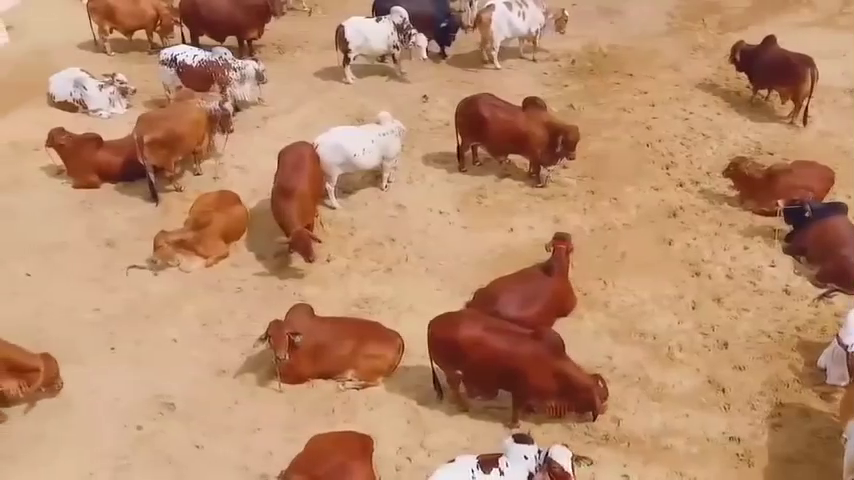bo: (417, 301, 621, 427), (262, 288, 406, 401), (443, 84, 583, 195), (470, 233, 594, 327), (130, 85, 233, 194), (146, 175, 249, 283), (707, 139, 845, 218), (265, 129, 335, 284), (307, 104, 410, 204), (714, 28, 827, 119), (327, 3, 434, 83), (413, 435, 603, 480), (155, 39, 271, 112), (471, 2, 579, 74), (174, 1, 297, 64), (269, 421, 392, 480), (42, 125, 142, 194), (44, 52, 135, 127), (368, 1, 466, 63), (3, 330, 65, 428), (74, 1, 176, 51), (828, 331, 854, 475), (807, 307, 854, 384)
